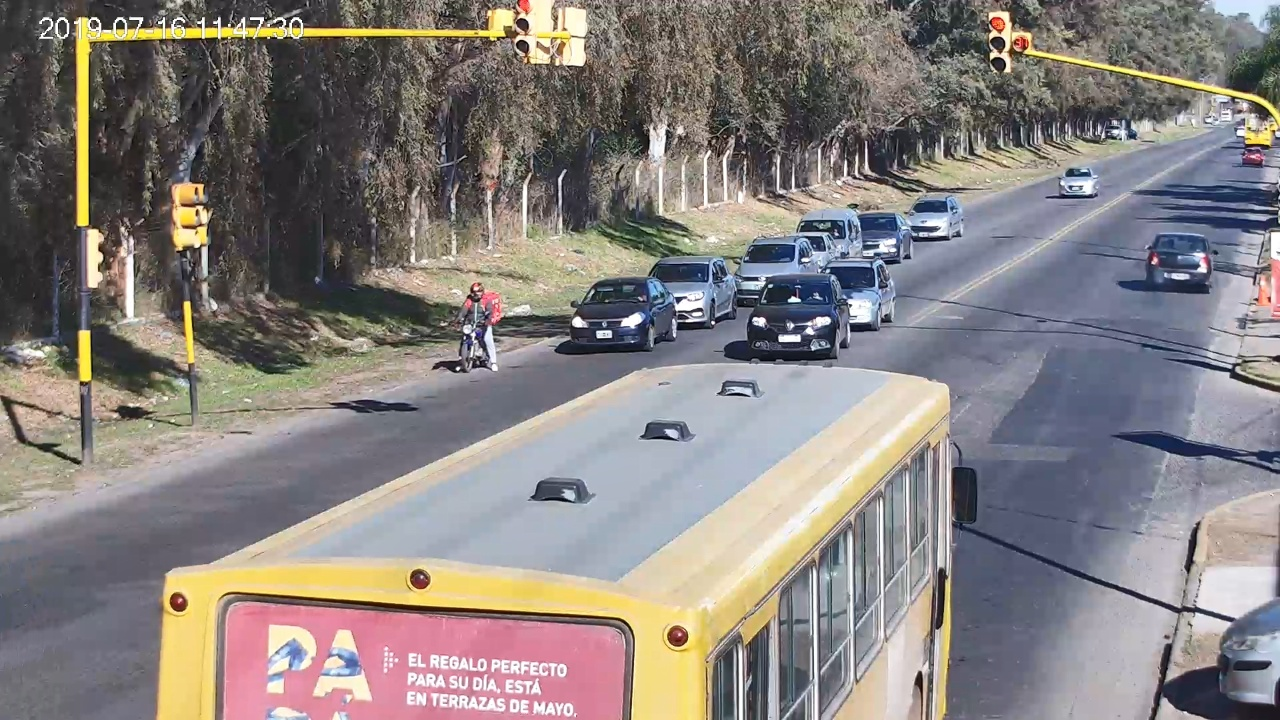bus: (158, 363, 980, 720)
car: (1144, 232, 1219, 295)
front car: (745, 274, 851, 358), (570, 277, 677, 351)
traffic light: (988, 12, 1010, 72)
